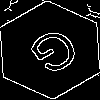G: (25, 25, 90, 85)
